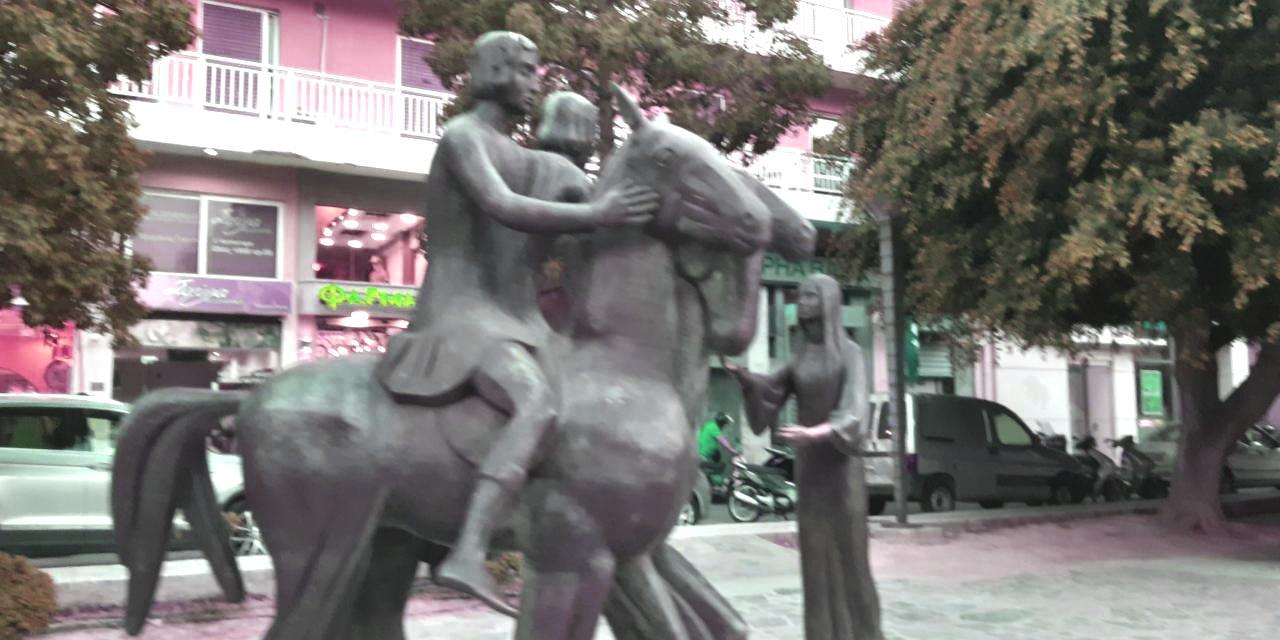Aretousa: (110, 33, 887, 640)
